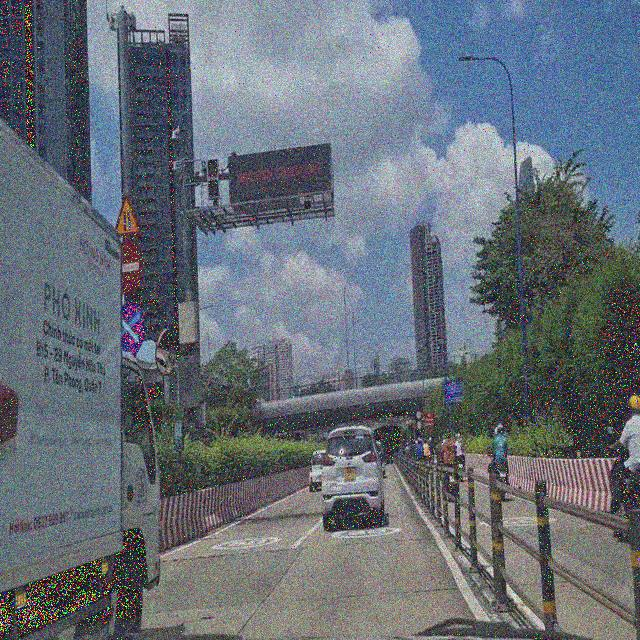Cấm đi ngược chiều: (119, 241, 142, 294)
Hướng phải đi vòng sang phải: (118, 300, 143, 351)
Khác: (443, 376, 466, 406)
Đường hẹp: (111, 191, 142, 240)
